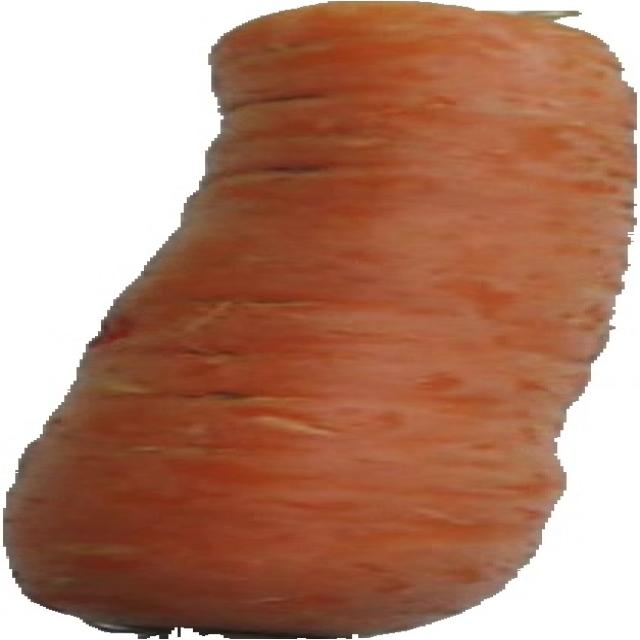carrot: (8, 2, 635, 638)
